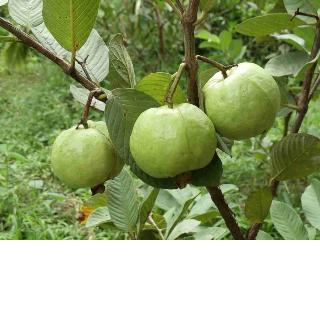oi: (124, 98, 221, 183), (193, 57, 283, 145), (46, 117, 127, 191)
